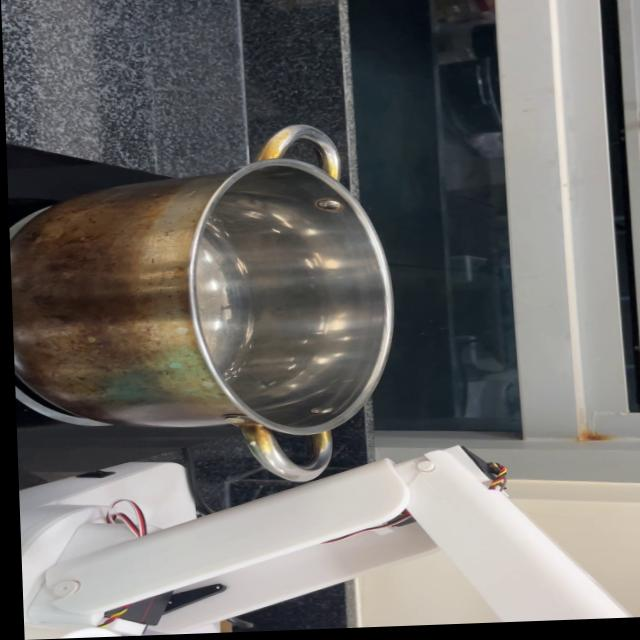cooking_pot: (4, 124, 400, 493)
